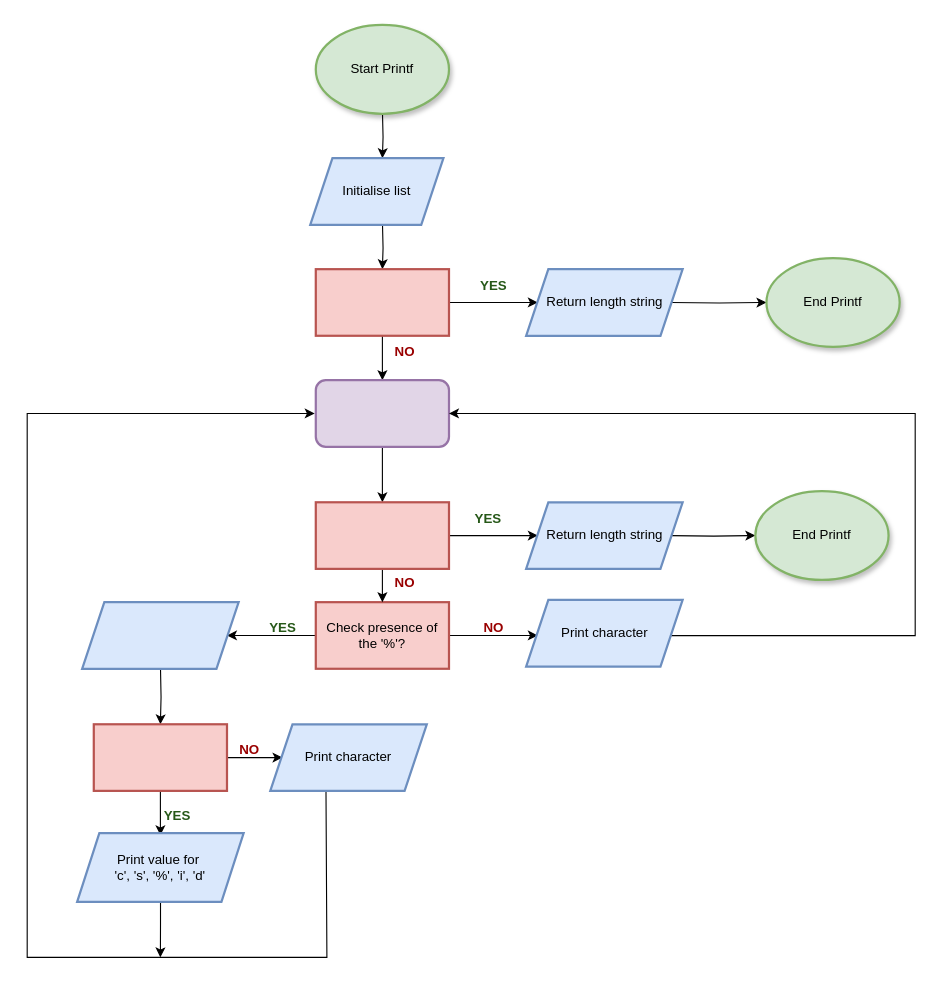
This 944x986 diagram has some shape labels left out. Each missing label, with the centre of its shape:
"Check if format == NULL" goes at [382,302].
"Check presence of a recognizer?" goes at [160,757].
"Check presence of the character '\0'?" goes at [382,535].
"Identify the next character" goes at [159,635].
"Loop in string format[i]" goes at [382,413].
